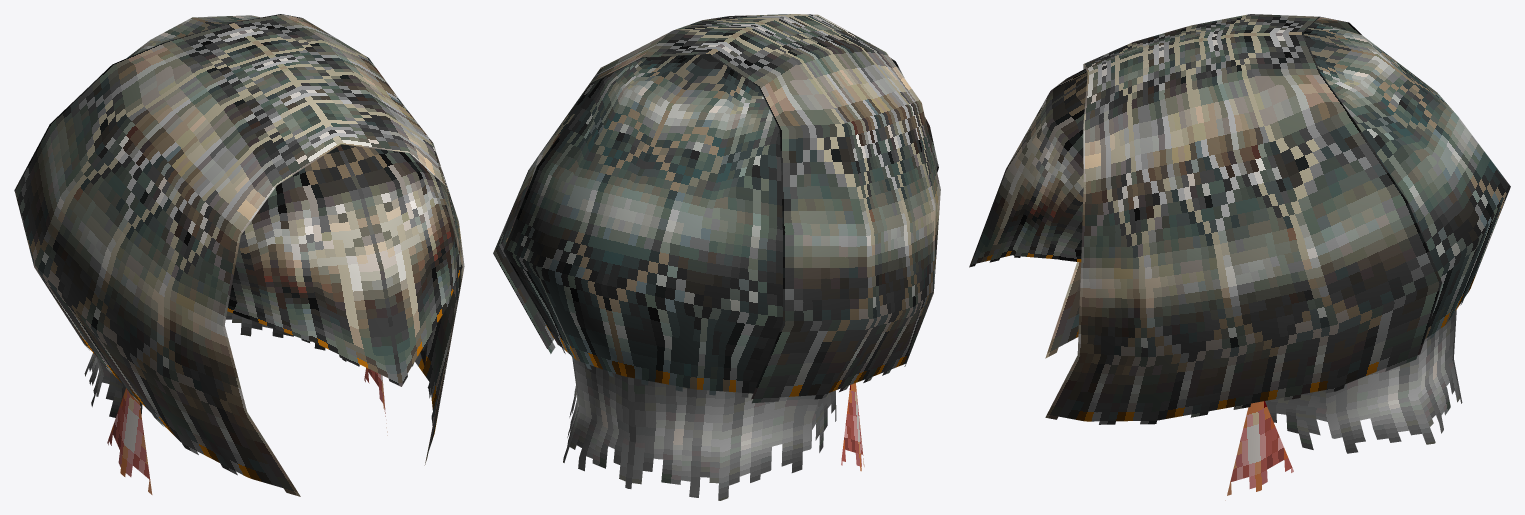
File: m_hair037.glb
The picture shows the model from 3 angles, left to right: view 1: azimuth 30°, elevation 25°; view 2: azimuth 150°, elevation 25°; view 3: azimuth 270°, elevation 25°; orthographic projection. The views are drawn at different scales.
Size of the model in its own units: 21.36 by 23.83 by 28.43.
1 material, 1 textured.
